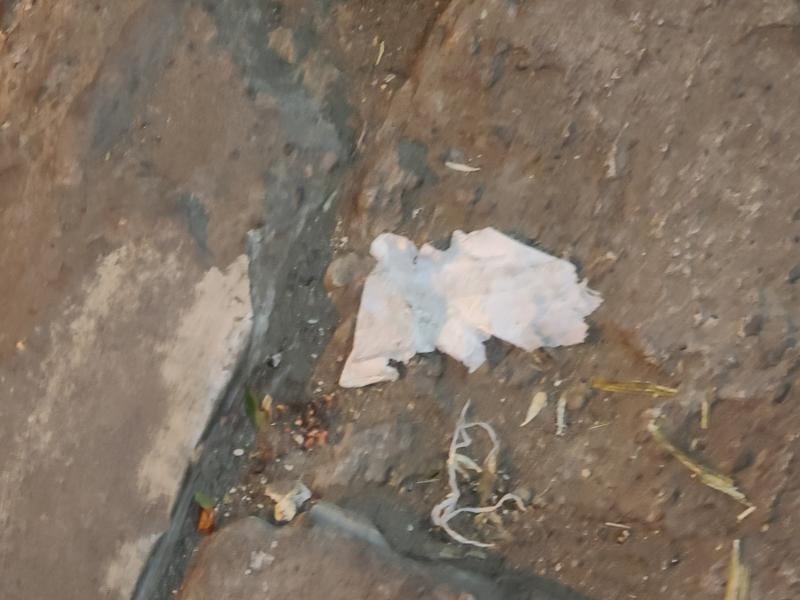papel: (337, 227, 605, 391)
